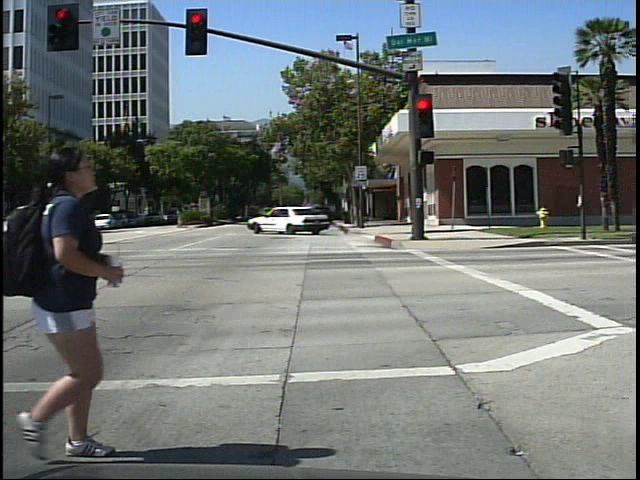person: (12, 135, 132, 466)
